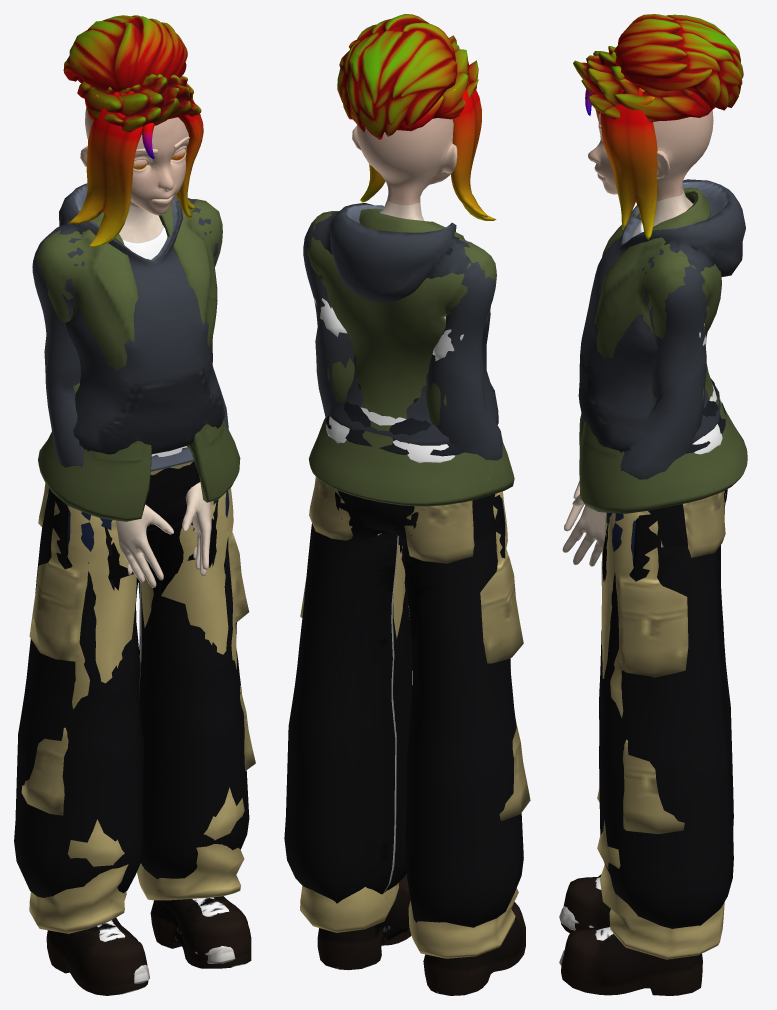
The model's file is bozo-male.glb.
3 renders of one model, left to right at view 1: azimuth 30°, elevation 25°; view 2: azimuth 150°, elevation 25°; view 3: azimuth 270°, elevation 25°, orthographic.
Parts seen in each view (by area): view 1: Outfit_2_bottom_0, Outfit_1_bottom_0, Outfit_2_top_0, Outfit_1_top_0, Outfit_1_feet_0, Hair_0_0_0, Hair_2_0_0, Hair_3_0_0, Head_0, Body_Hand, Outfit_3_bottom_0, Outfit_2_feet_0 (+4 smaller); view 2: Outfit_2_bottom_0, Outfit_1_top_0, Outfit_2_top_0, Outfit_1_bottom_0, Hair_0_0_0, Outfit_1_feet_0, Head_0, Hair_2_0_0, Outfit_0_top_0, Hair_3_0_0, Outfit_3_top_0, Body_Neck; view 3: Outfit_2_bottom_0, Outfit_2_top_0, Outfit_1_bottom_0, Outfit_1_top_0, Hair_0_0_0, Outfit_1_feet_0, Hair_2_0_0, Hair_3_0_0, Head_0, Body_Hand, Body_Neck, Outfit_0_top_0 (+2 smaller).
Boxes of the visible parts, <box> form: Outfit_2_bottom_0: <box>14,461,249,897</box>; Outfit_1_bottom_0: <box>21,462,255,933</box>; Outfit_2_top_0: <box>32,183,228,471</box>; Outfit_1_top_0: <box>35,199,240,521</box>; Outfit_1_feet_0: <box>46,896,251,995</box>; Hair_0_0_0: <box>63,15,187,91</box>; Hair_2_0_0: <box>68,92,203,247</box>; Hair_3_0_0: <box>77,74,201,132</box>; Head_0: <box>80,108,189,215</box>; Body_Hand: <box>116,482,211,587</box>; Outfit_3_bottom_0: <box>65,507,216,598</box>; Outfit_2_feet_0: <box>97,897,229,958</box>; Outfit_2_bottom_0: <box>284,490,523,927</box>; Outfit_1_top_0: <box>307,208,514,506</box>; Outfit_2_top_0: <box>303,203,502,460</box>; Outfit_1_bottom_0: <box>300,476,530,958</box>; Hair_0_0_0: <box>337,14,457,139</box>; Outfit_1_feet_0: <box>317,874,525,995</box>; Head_0: <box>352,118,457,205</box>; Hair_2_0_0: <box>360,81,496,220</box>; Outfit_0_top_0: <box>314,298,463,463</box>; Hair_3_0_0: <box>397,35,478,131</box>; Outfit_3_top_0: <box>326,220,465,456</box>; Body_Neck: <box>379,199,424,220</box>; Outfit_2_bottom_0: <box>599,489,733,928</box>; Outfit_2_top_0: <box>578,179,745,479</box>; Outfit_1_bottom_0: <box>597,491,725,959</box>; Outfit_1_top_0: <box>579,188,747,513</box>; Hair_0_0_0: <box>614,14,743,110</box>; Outfit_1_feet_0: <box>561,874,702,995</box>; Hair_2_0_0: <box>595,89,657,239</box>; Hair_3_0_0: <box>573,46,714,122</box>; Head_0: <box>588,110,713,200</box>; Body_Hand: <box>562,481,605,566</box>; Body_Neck: <box>643,189,692,231</box>; Outfit_0_top_0: <box>632,203,722,454</box>.
Size of the model in its own units: 0.47 by 1.92 by 0.3738.
19 materials, 19 textured.
